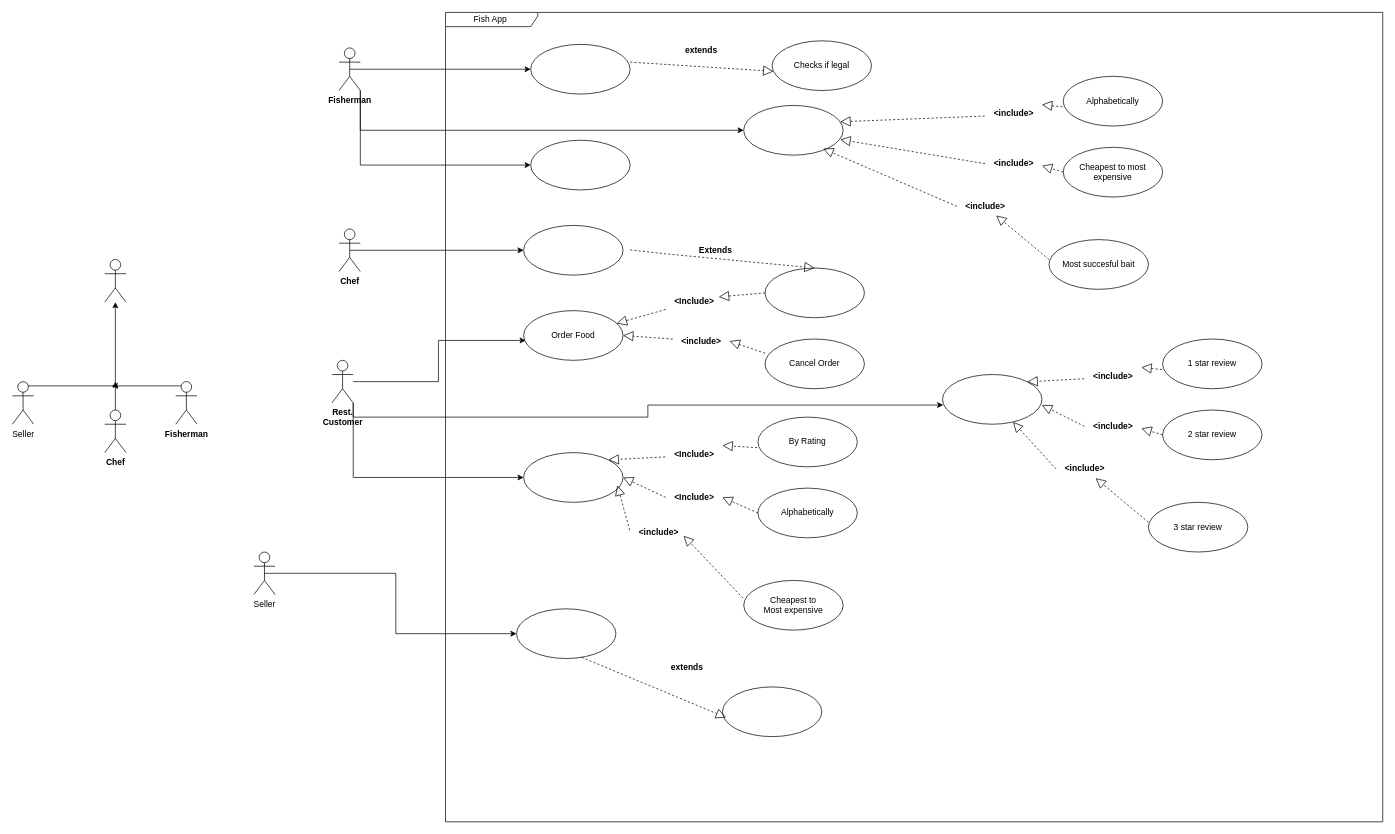
The diagram is 1395 pixels wide and 834 high, and some of its shapes have lost their labels. Each missing label, with the centre of its shape:
"Caches FIsh /Logs Fish." goes at (x=580, y=69).
"Checks weather." goes at (x=580, y=165).
"Places Order" goes at (x=814, y=292).
"Puts price" goes at (x=772, y=711).
"Rates Food" goes at (x=992, y=399).
"Searches Food" goes at (x=573, y=477).
"Sells fish" goes at (x=566, y=633).
"Serches info for Bait" goes at (x=793, y=130).
"User" goes at (x=115, y=280).
"Uses recipe to Cook" goes at (x=573, y=250).
